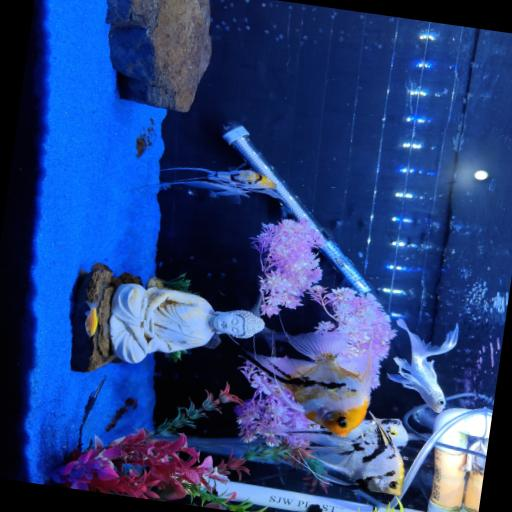Fish: (244, 331, 370, 436), (274, 413, 403, 495), (387, 319, 458, 413), (152, 164, 278, 202), (376, 419, 407, 448), (84, 302, 97, 336)
